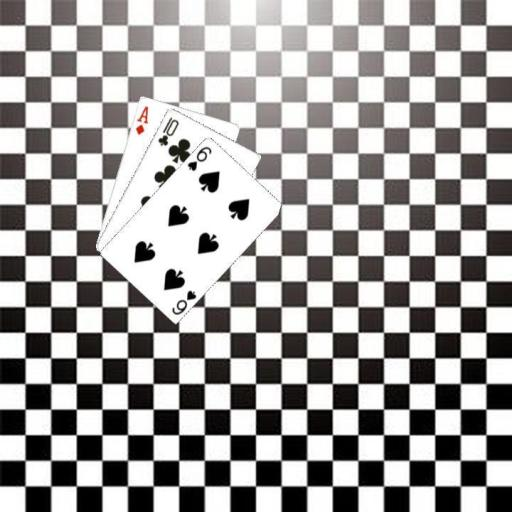card-corner: (168, 286, 198, 316), (184, 143, 214, 172), (154, 114, 180, 147), (132, 102, 150, 136)
